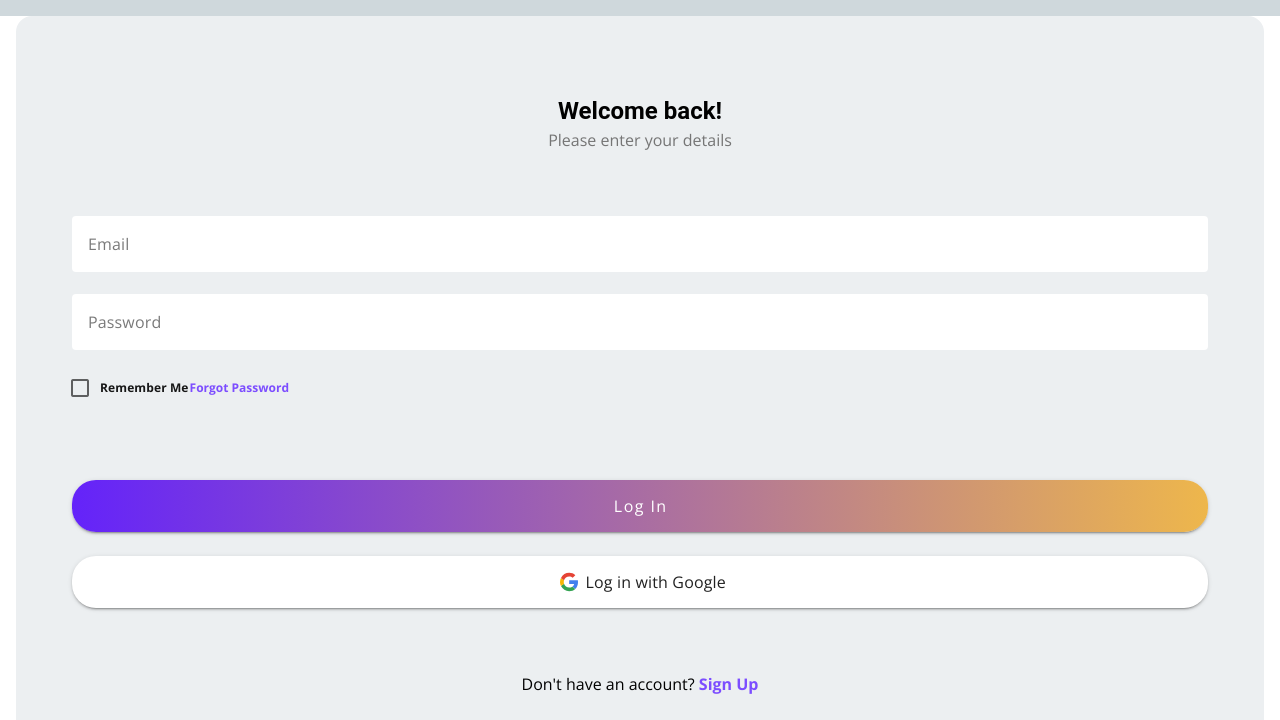
LoginForm › Functionality › Email Input › should show an error for email thats > 100 char
Replace the text in the field labelled "Email" with "thisisaverylongemailnameindeedatthisservice@averyspecificandlongsubdomain.exampledomainforillustrationonly.com" at (109, 244), box left=88, top=233, right=129, bottom=255
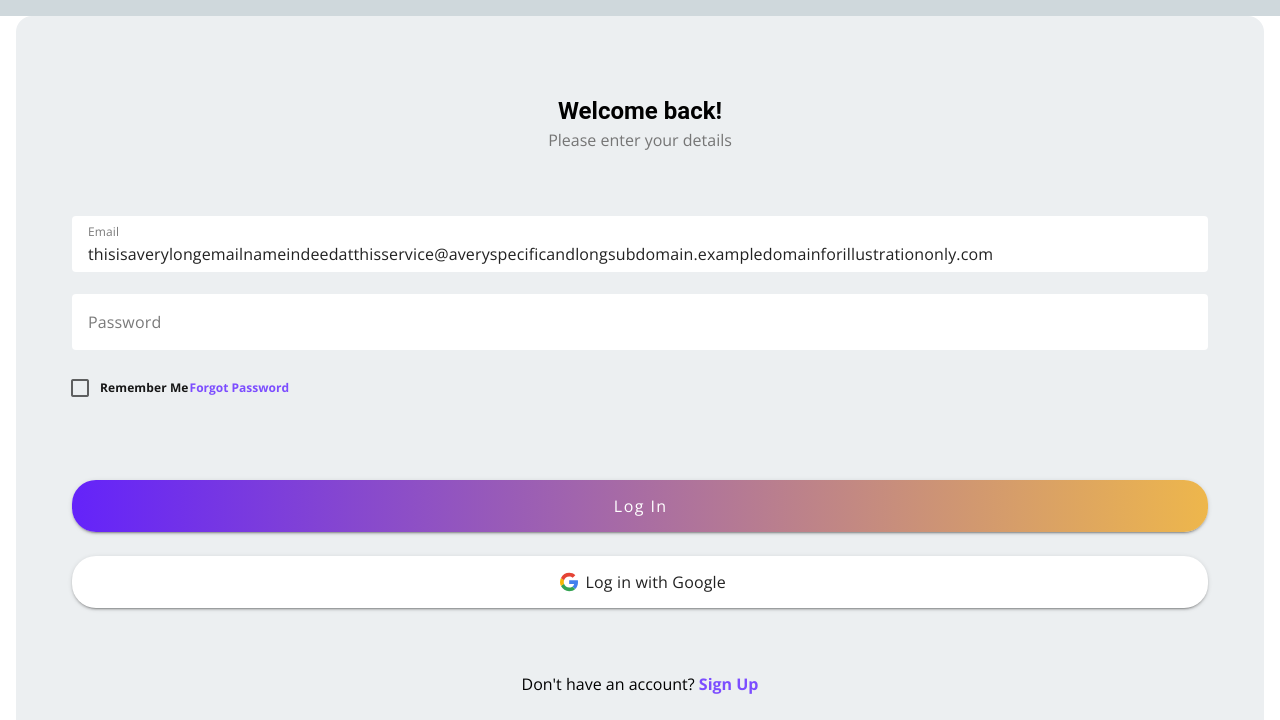
Leave the field labelled "Email", box left=72, top=216, right=1208, bottom=272
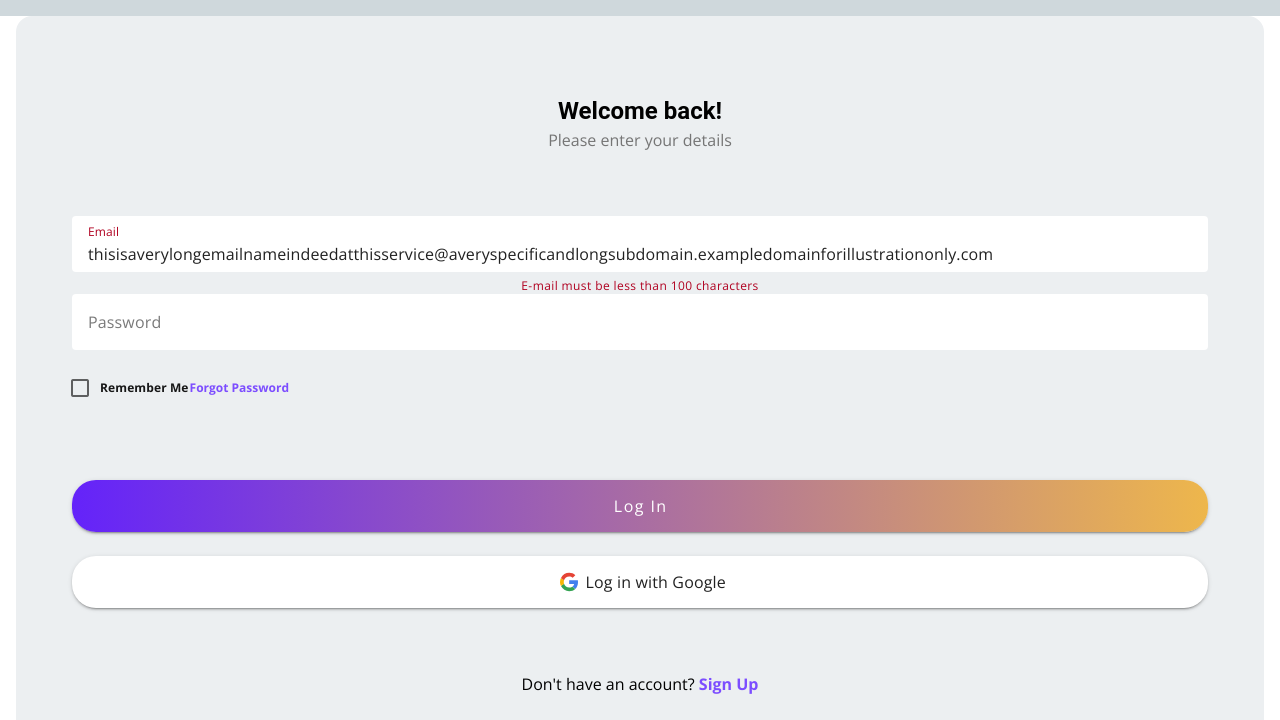
expect the message with id "email-messages" reads "E-mail must be less than 100 characters": met, box left=521, top=277, right=759, bottom=294
